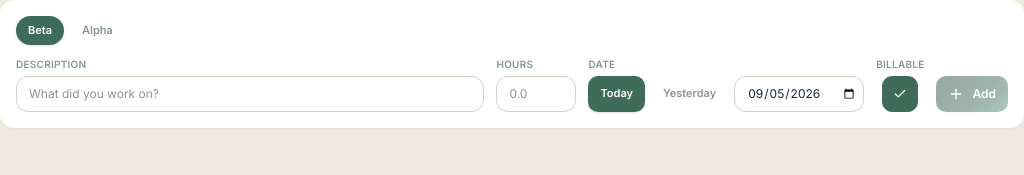
Scenario: QuickLogForm › shows the error and preserves values when save fails
Type "Doomed" into the dropdown labelled "Description" at coordinates (250, 94), box [16, 76, 484, 112]
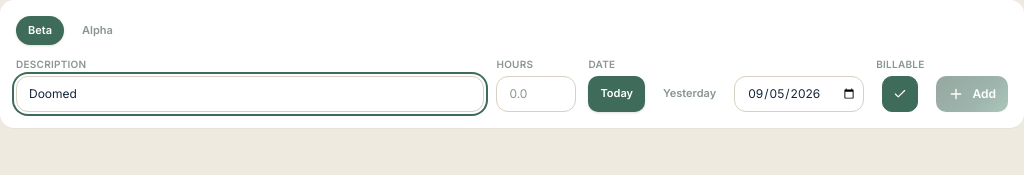
Type "1" into the number field labelled "Hours" at coordinates (536, 94), box [496, 76, 576, 112]
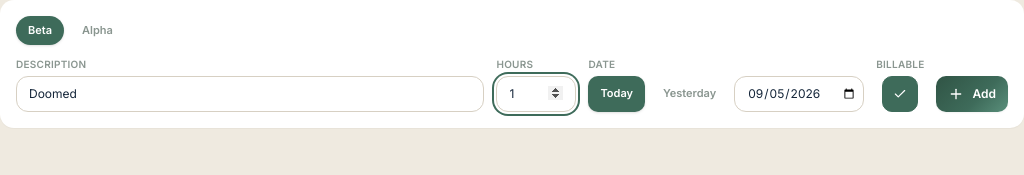
Click the button "Add" at coordinates (972, 94), box [936, 76, 1008, 112]
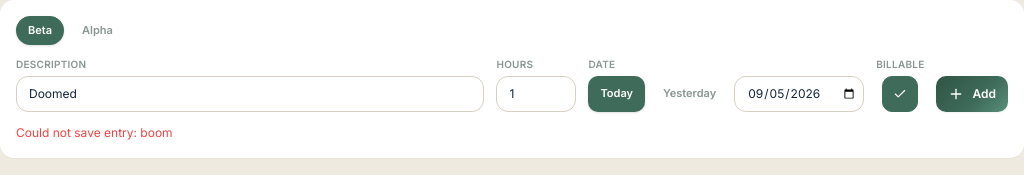
Result: the text "Could not save entry: boom" is shown at [16, 124, 173, 140]
